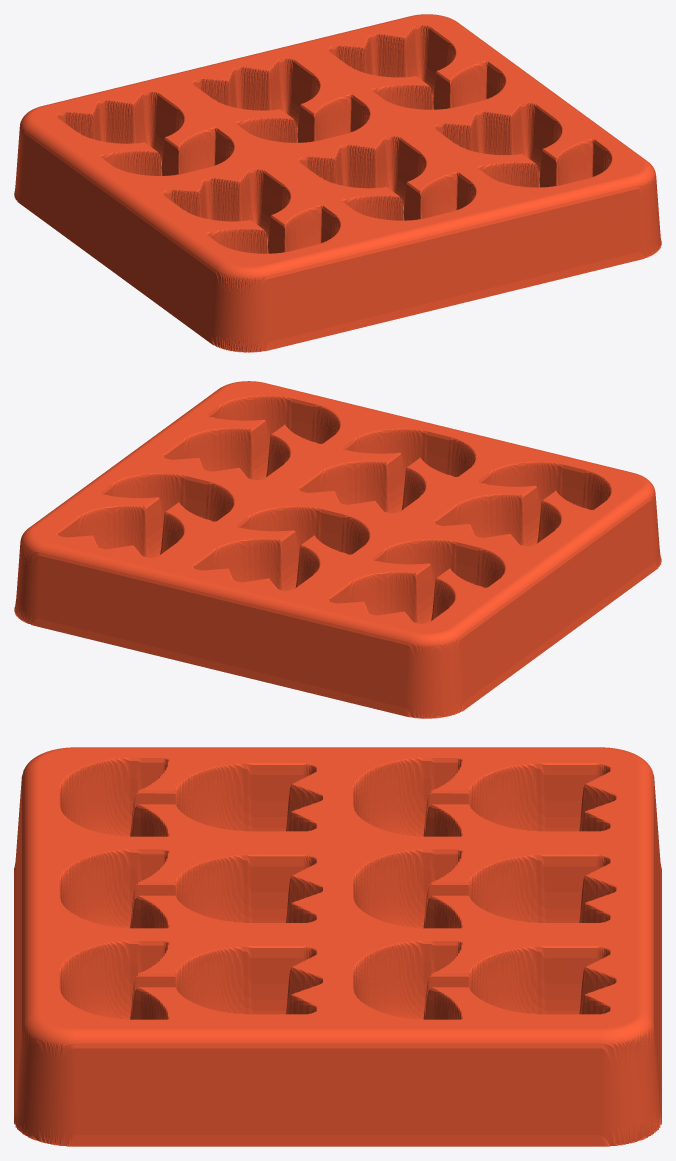
Rendered from mold.glb.
3 views of the same model, one above another, from view 1: azimuth 30°, elevation 25°; view 2: azimuth 150°, elevation 25°; view 3: azimuth 270°, elevation 25° (orthographic). The views are drawn at different scales.
Parts seen in each view (by area): view 1: geometry_0; view 2: geometry_0; view 3: geometry_0.
Boxes of the visible parts, <box> form: geometry_0: <box>14,14,661,352</box>; geometry_0: <box>14,381,661,718</box>; geometry_0: <box>14,747,661,1146</box>.
Bounding box in the file's own units: 0.1047 × 0.0175 × 0.0955.
